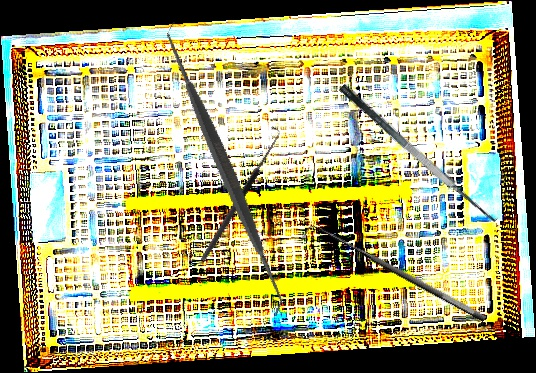Hook Surgical: (300, 217, 488, 336), (193, 125, 284, 263)
Spatula Surgical: (75, 21, 374, 317), (337, 70, 507, 231)
